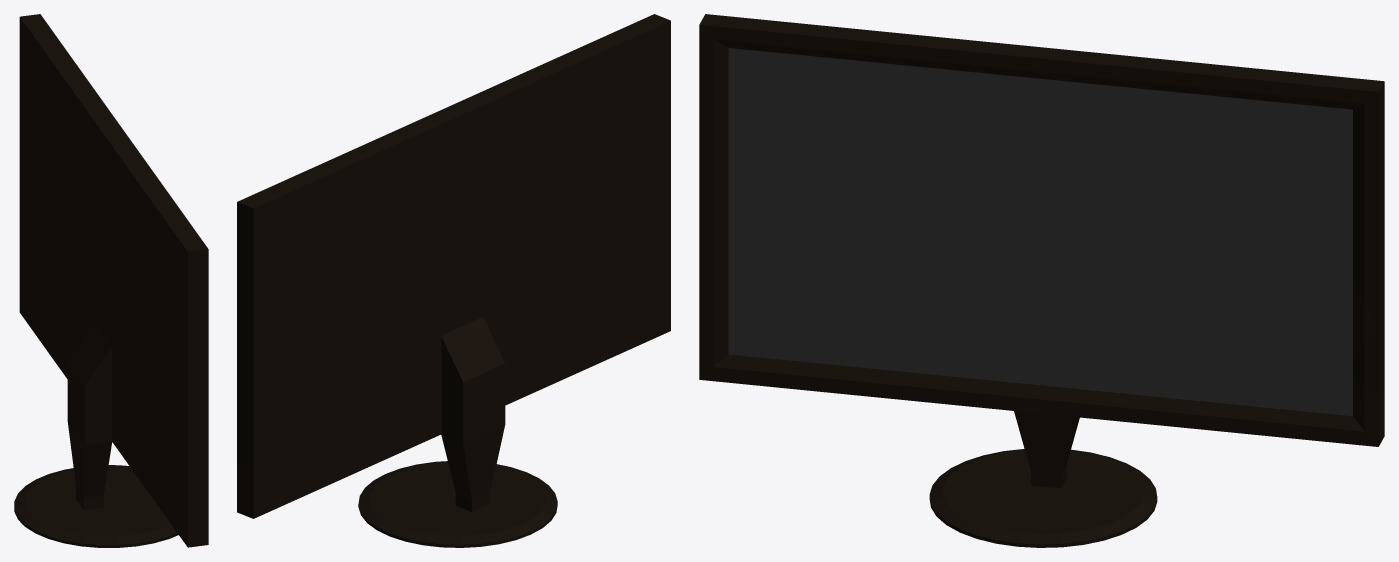
Rendered from screen2mesh.gltf.
3 renders of one model, left to right at view 1: azimuth 30°, elevation 25°; view 2: azimuth 150°, elevation 25°; view 3: azimuth 270°, elevation 25°, orthographic. The views are drawn at different scales.
Visible parts, largest first — view 1: PC_Monitor_PC_Monitor_0.001; view 2: PC_Monitor_PC_Monitor_0.001; view 3: PC_Monitor_PC_Screen_0.001, PC_Monitor_PC_Monitor_0.001.
Boxes of the visible parts, bbox=[...] form: PC_Monitor_PC_Monitor_0.001: bbox=[14, 14, 208, 547]; PC_Monitor_PC_Monitor_0.001: bbox=[237, 14, 670, 547]; PC_Monitor_PC_Screen_0.001: bbox=[728, 48, 1352, 416]; PC_Monitor_PC_Monitor_0.001: bbox=[699, 14, 1384, 547].
Size of the model in its own units: 5.2 by 11.31 by 15.63.
2 materials, 2 textured.
